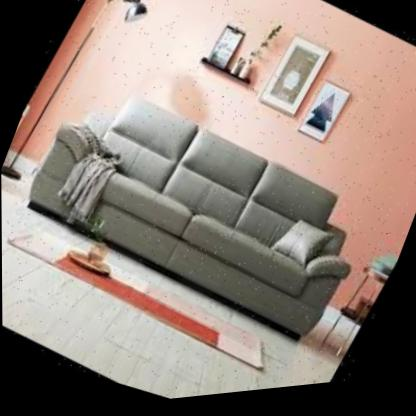Sofa: (0, 12, 414, 402)
